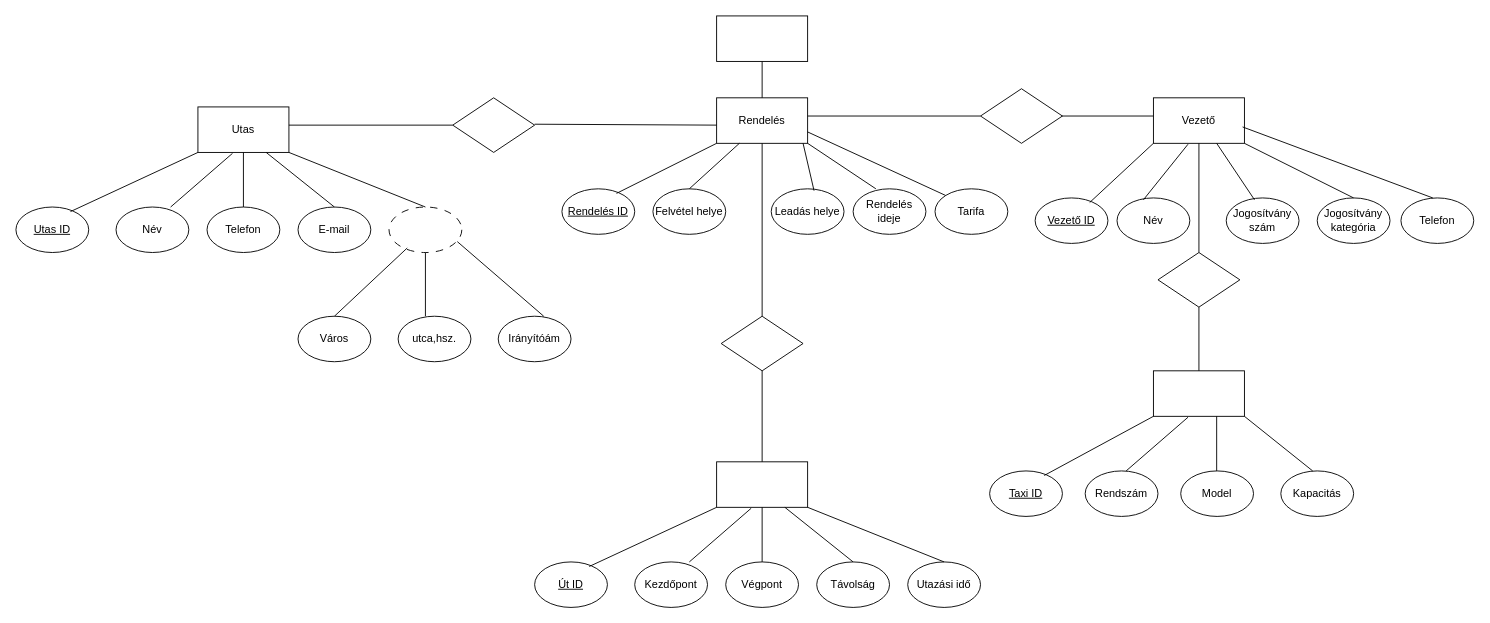
This 1490x623 diagram has some shape labels left out. The shapes that lost their labels are listed below. From the top down, each one's centre as x and y in pixels, then its label:
At point (762, 38): "Taxi Rendelés".
At point (493, 124): "Megrendelés".
At point (1021, 115): "Vezet".
At point (425, 229): "Lakcím".
At point (1198, 279): "Gépkocsija".
At point (761, 343): "Fuvar".
At point (1198, 393): "Taxi".
At point (762, 484): "Út".
